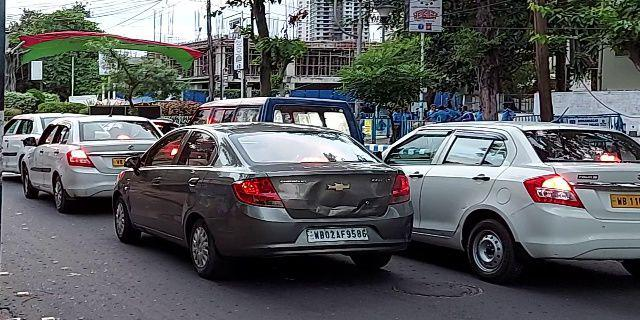Car: (144, 120, 420, 281), (408, 107, 640, 280), (14, 113, 164, 207)
